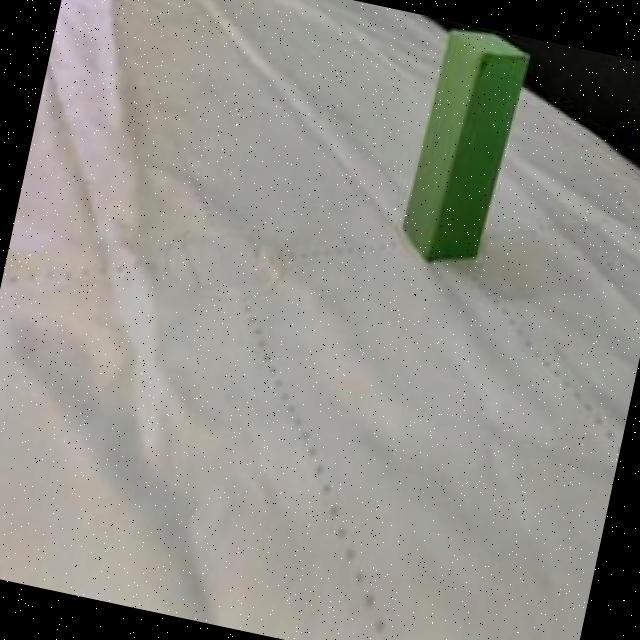greenbox: (394, 22, 536, 280)
